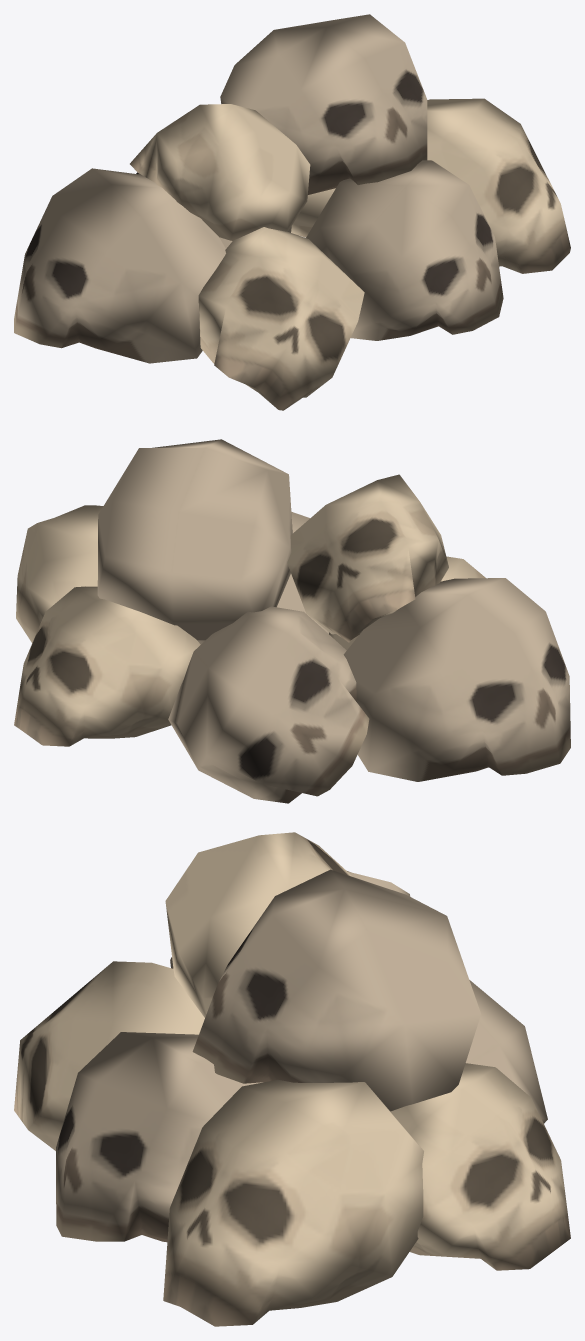
The model's file is bog_skull_pile.gltf.
The picture shows the model from 3 angles, top to bottom: view 1: azimuth 30°, elevation 25°; view 2: azimuth 150°, elevation 25°; view 3: azimuth 270°, elevation 25°; orthographic projection. The views are drawn at different scales.
Visible parts, largest first — view 1: bog_skull_pile; view 2: bog_skull_pile; view 3: bog_skull_pile.
Boxes of the visible parts, left/top/right/bottom form: bog_skull_pile: left=14, top=14, right=570, bottom=410; bog_skull_pile: left=14, top=439, right=570, bottom=803; bog_skull_pile: left=14, top=832, right=570, bottom=1326.
Bounding box in the file's own units: 0.9355 × 0.4961 × 0.6523.
1 material, 1 textured.
